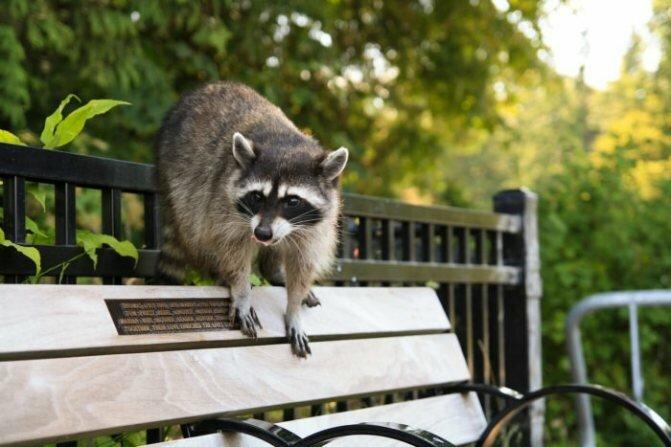raccoon: (152, 73, 362, 375)
